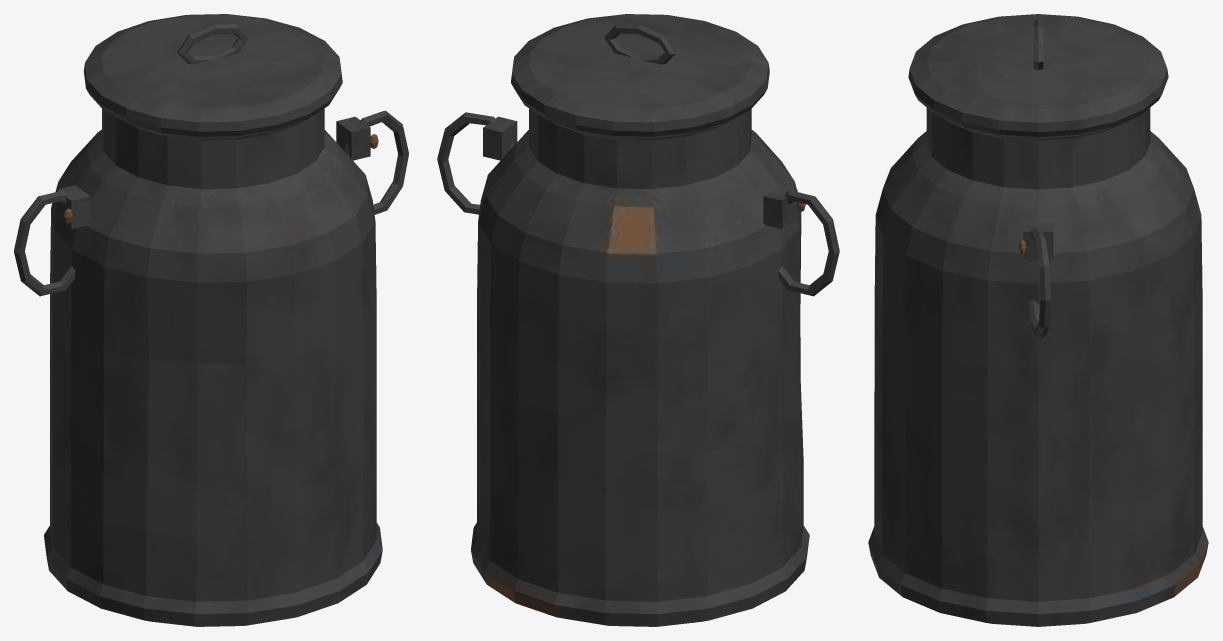
Rendered from K22_milk_can.glb.
3 views of the same model, side by side, from view 1: azimuth 30°, elevation 25°; view 2: azimuth 150°, elevation 25°; view 3: azimuth 270°, elevation 25° (orthographic).
Parts seen in each view (by area): view 1: Dented aluminium milk can; view 2: Dented aluminium milk can; view 3: Dented aluminium milk can.
Boxes of the visible parts, x1,y1,x2,y2 form: Dented aluminium milk can: (14,14,408,626); Dented aluminium milk can: (437,14,839,626); Dented aluminium milk can: (868,14,1208,626).
Size of the model in its own units: 0.3869 by 0.5 by 0.2866.
3 materials, 3 textured.
